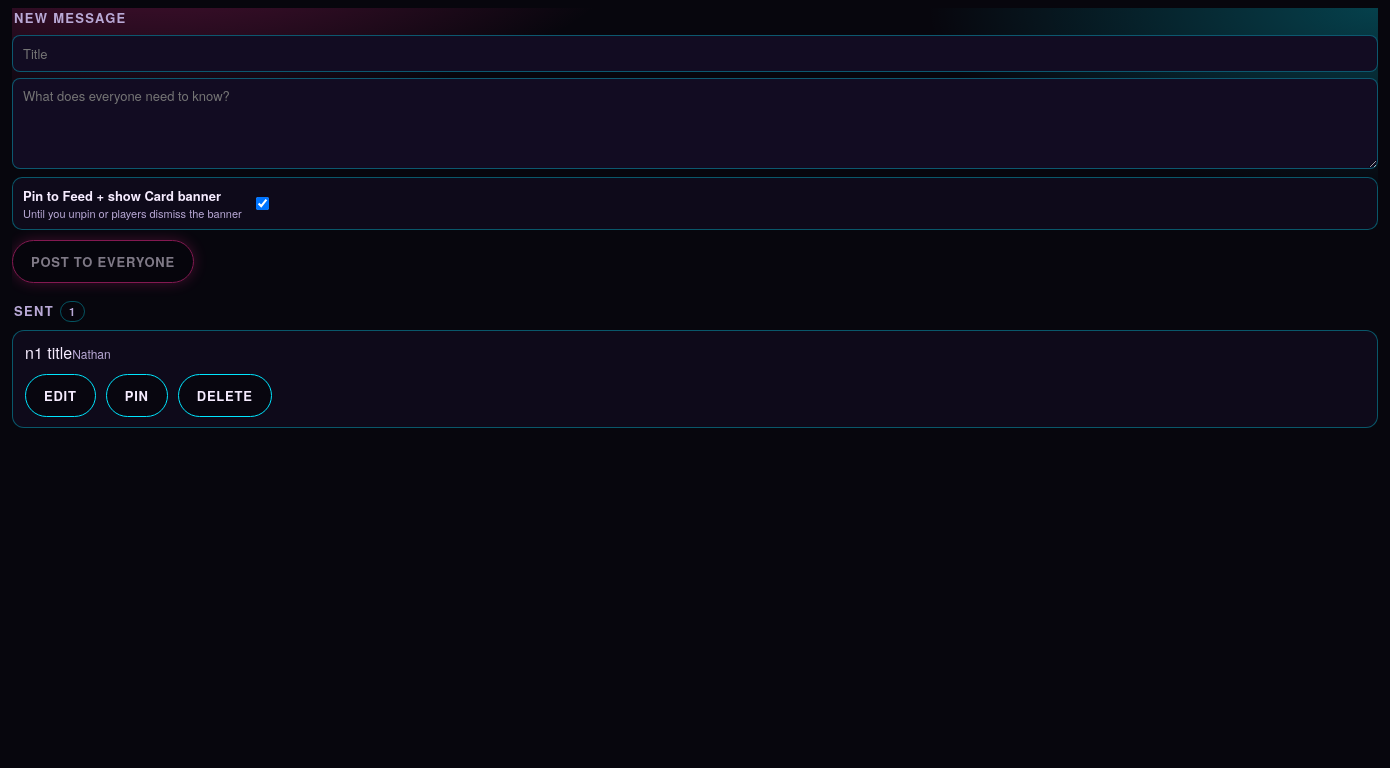
Scenario: MessagesPanel (specs/admin-messages.md) › Cancel closes the editor without writing
Click the button "Edit" at (60, 395), box [25,374,96,417]
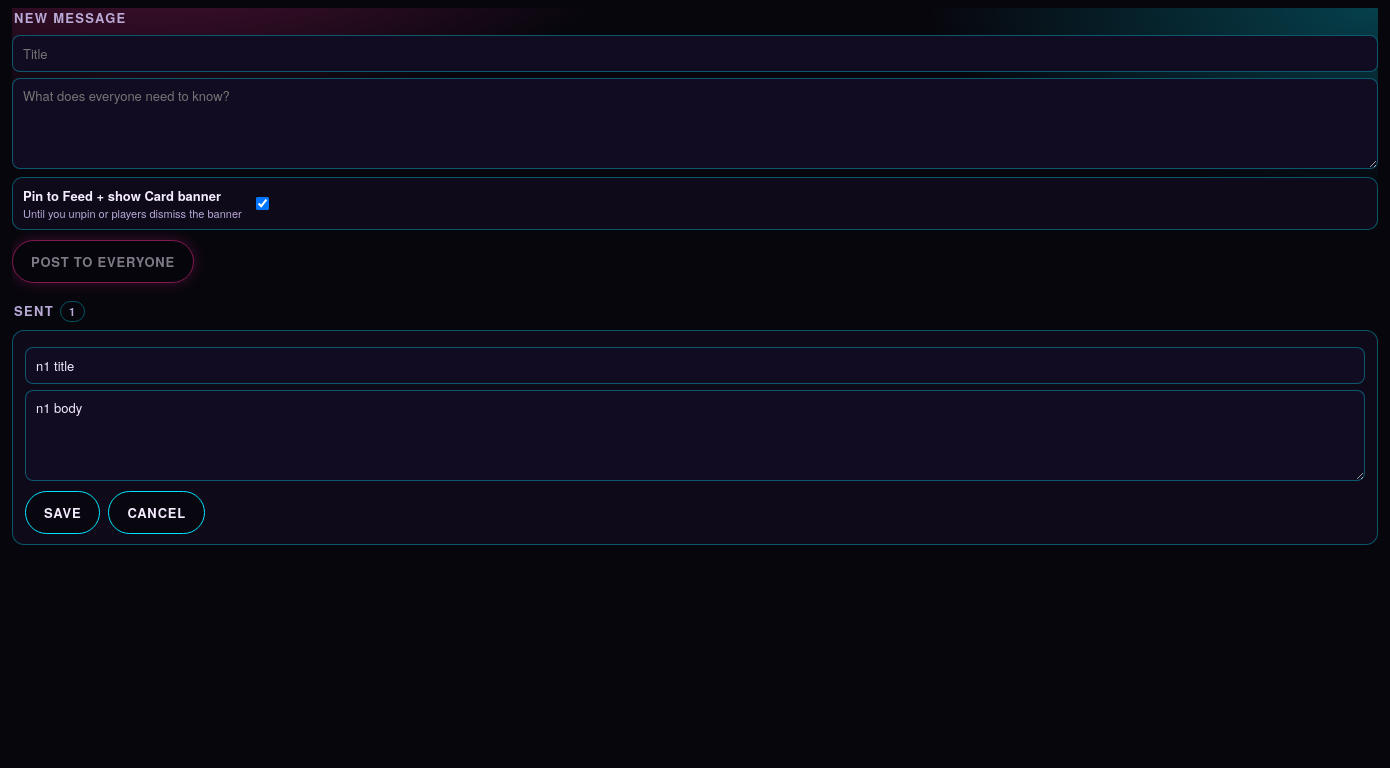
Replace the text in the text box named "Edit notice body" with "discarded" at (695, 435), box [25,390,1365,481]
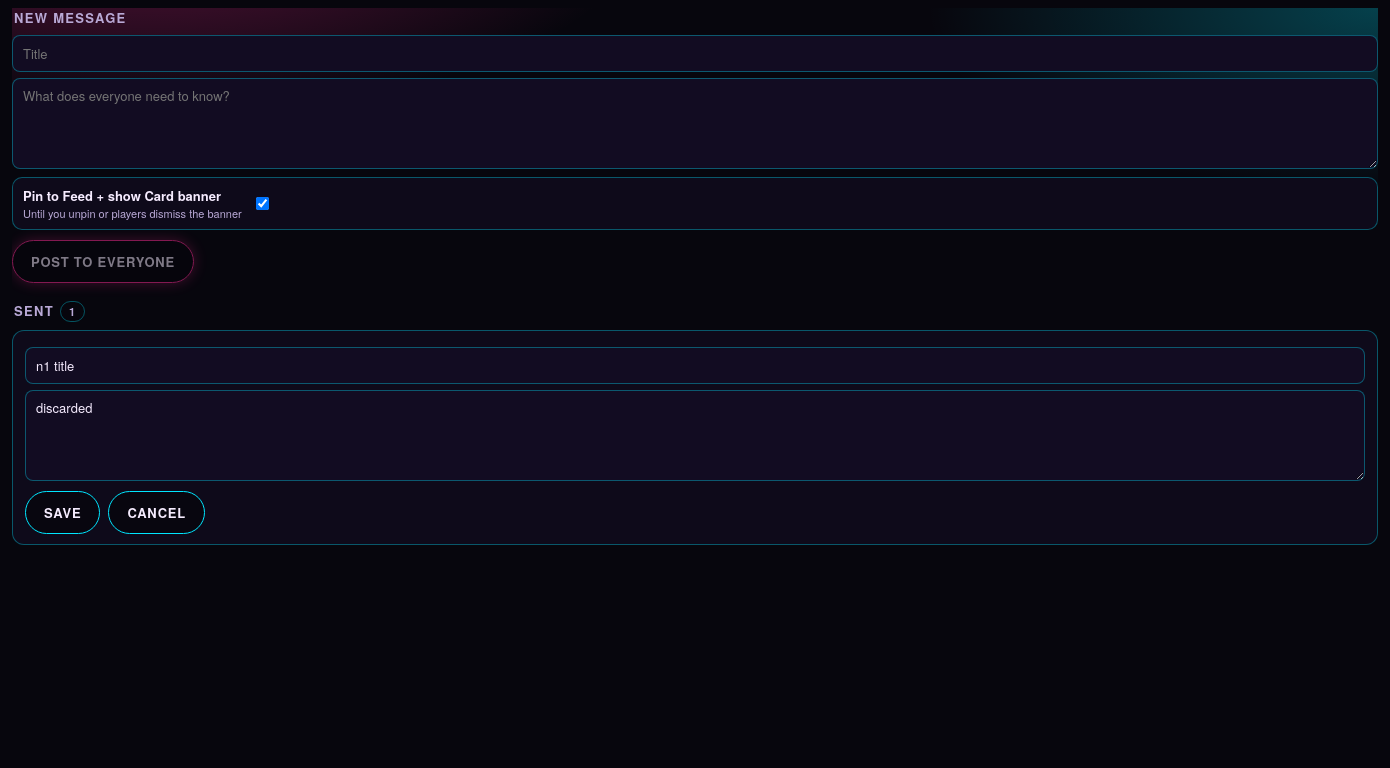
Click the button "Cancel" at (157, 512), box [108,490,205,534]
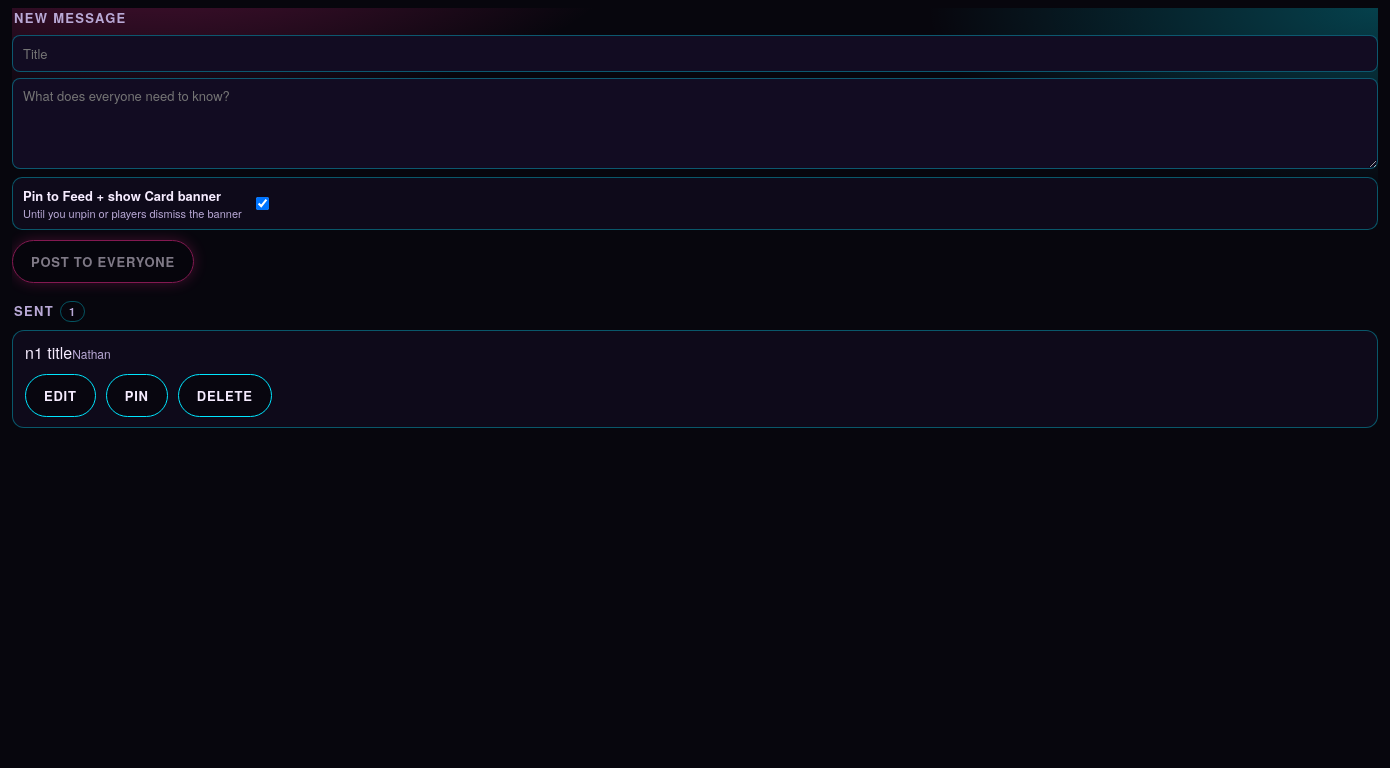
Expected: the text "n1 title" is shown, [25,341,72,364]
